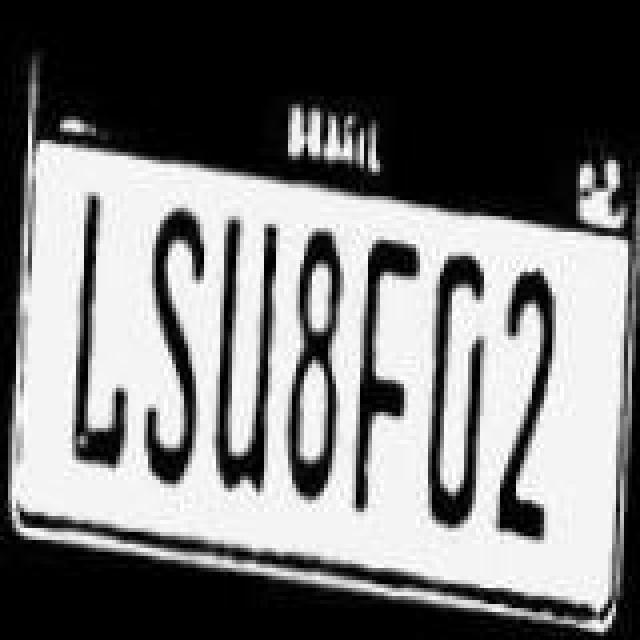2: (490, 258, 562, 542)
8: (284, 208, 352, 500)
D: (420, 246, 488, 526)
F: (348, 228, 416, 524)
L: (62, 188, 146, 476)
S: (138, 198, 210, 498)
U: (206, 196, 286, 508)
